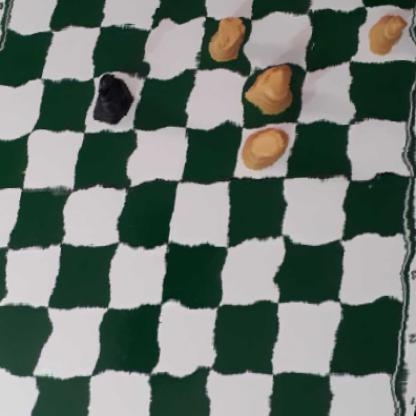black-king: (85, 75, 138, 130)
black-rook: (364, 0, 416, 3)
white-bishop: (248, 62, 297, 115)
white-king: (236, 124, 291, 171)
white-pawn: (366, 10, 413, 56)
white-rook: (206, 13, 251, 61)
